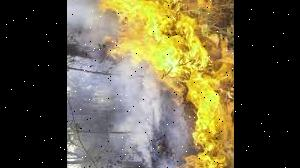fire: (83, 0, 232, 71), (163, 72, 234, 168)
